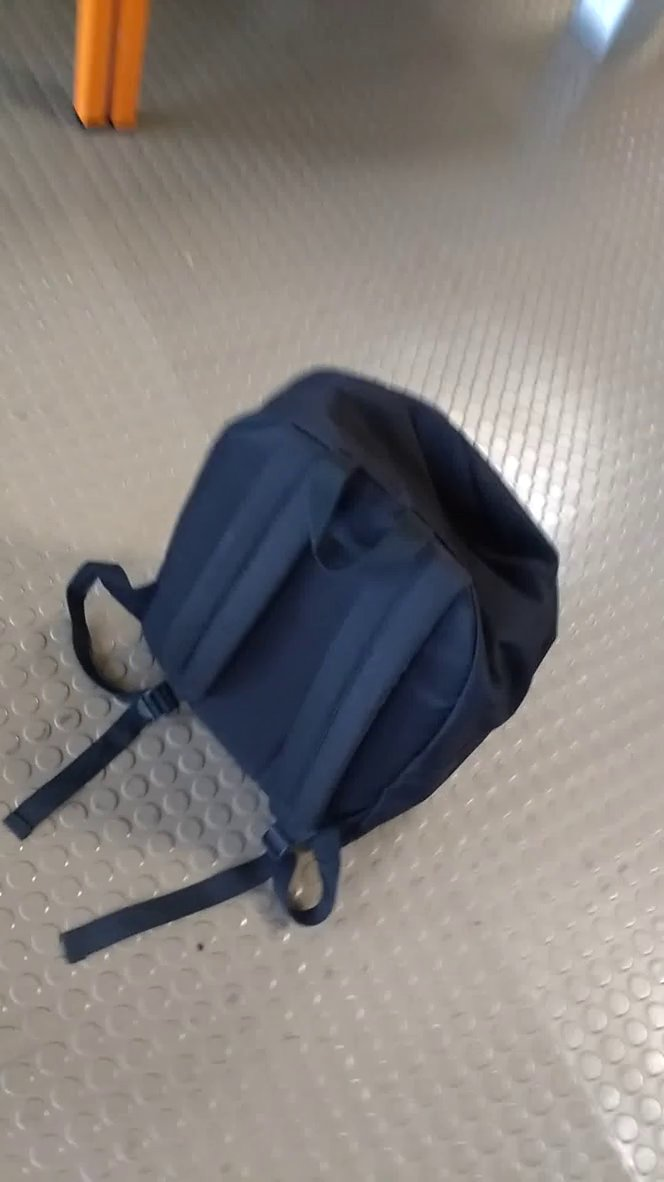bag: (2, 291, 569, 974)
